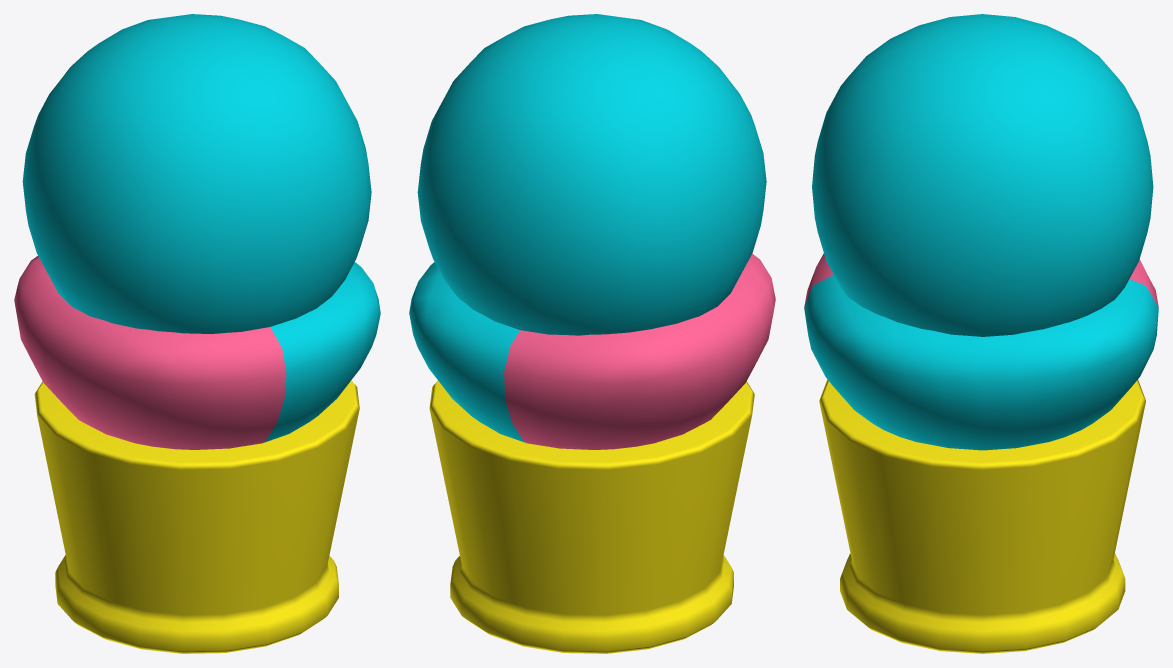
File: Store_8_Candy_Decoration_2.glb
3 renders of one model, left to right at view 1: azimuth 30°, elevation 25°; view 2: azimuth 150°, elevation 25°; view 3: azimuth 270°, elevation 25°, orthographic.
Parts seen in each view (by area): view 1: Store_8_Candy_Decoration_2; view 2: Store_8_Candy_Decoration_2; view 3: Store_8_Candy_Decoration_2.
Boxes of the visible parts, box(x1,y1,x2,y2) form: Store_8_Candy_Decoration_2: box(14, 14, 380, 653); Store_8_Candy_Decoration_2: box(409, 14, 775, 653); Store_8_Candy_Decoration_2: box(804, 14, 1158, 653).
Size of the model in its own units: 0.5948 by 1.04 by 0.5948.
1 material, 1 textured.
